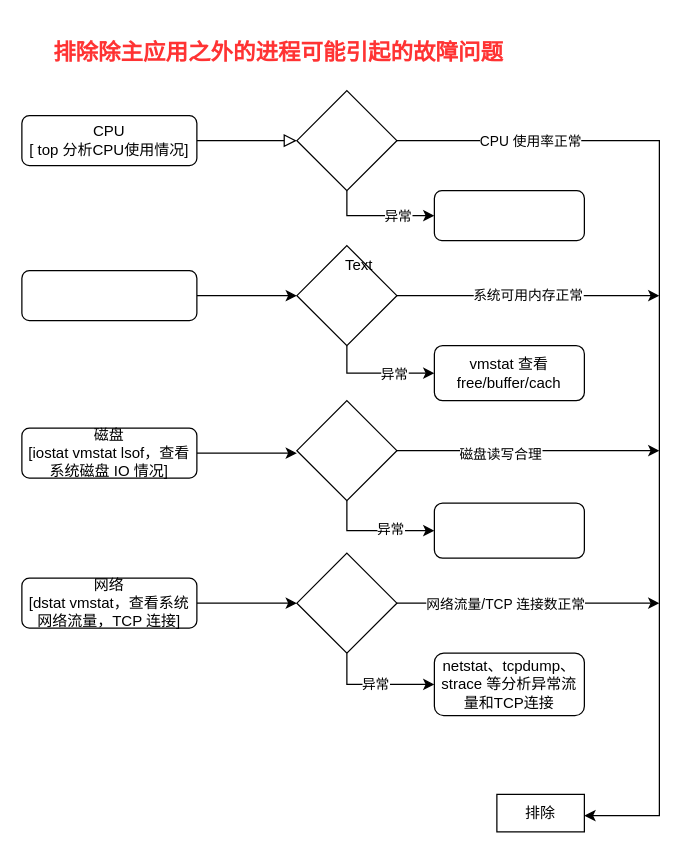
Some shapes in this 691 by 854 pixel diagram are drawn without their labels. The box of each missing label's shape, as (x1, y1, x2, y2) in pixels:
内存 [free -m 查看系统内存情况]: (21, 269, 197, 321)
分析排序CPU 使用率: (433, 189, 584, 241)
找到磁盘读写异常的进程，利用 pstack strace 等命令分析: (433, 502, 584, 558)
